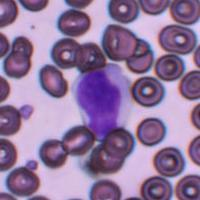M: (73, 64, 132, 140)
